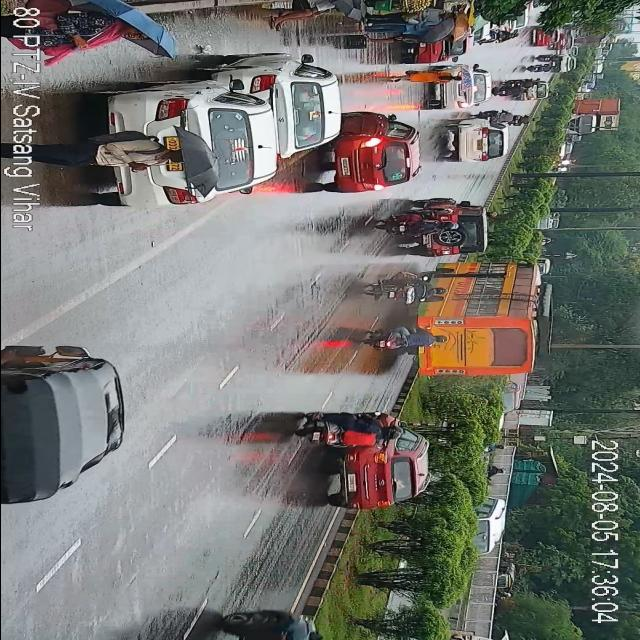2-wheelers: (378, 202, 493, 255), (296, 412, 416, 449), (366, 327, 441, 358), (360, 280, 444, 302), (522, 52, 576, 76), (489, 76, 533, 96), (481, 30, 522, 46), (512, 110, 538, 128)
auto: (0, 347, 128, 510), (440, 630, 519, 640)
bus: (402, 260, 554, 388)
car: (149, 79, 273, 193), (238, 54, 342, 156), (321, 109, 419, 194), (324, 433, 428, 513), (214, 603, 356, 640), (430, 64, 488, 114), (448, 119, 504, 166), (526, 28, 558, 48), (524, 88, 552, 102)
pedestrian: (36, 127, 182, 171), (39, 4, 142, 58), (267, 0, 353, 28), (362, 19, 438, 34), (379, 10, 454, 23), (390, 71, 464, 82), (370, 32, 427, 42)
